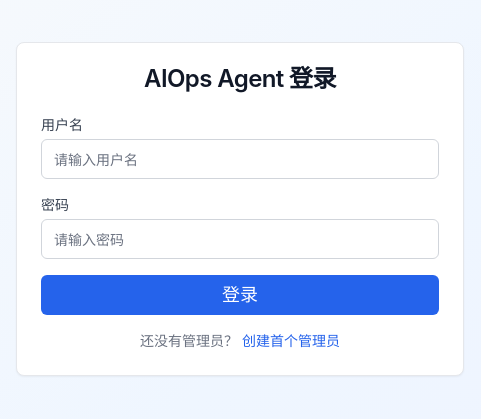
Test case: Login Form Validation Tests › Form Validation › should show error message on failed login
Type "invalid" into the field with placeholder "请输入用户名" at coordinates (240, 159), box [41,139,439,179]
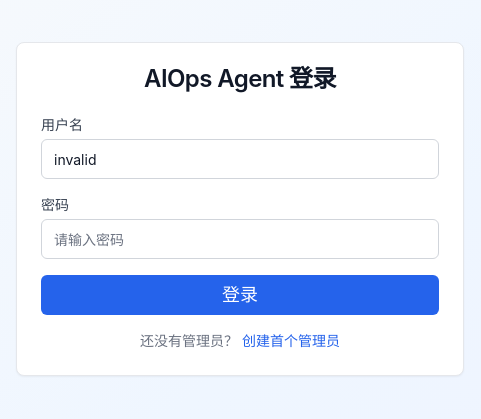
Type "wrong" into the password field with placeholder "请输入密码" at coordinates (240, 239), box [41,219,439,259]
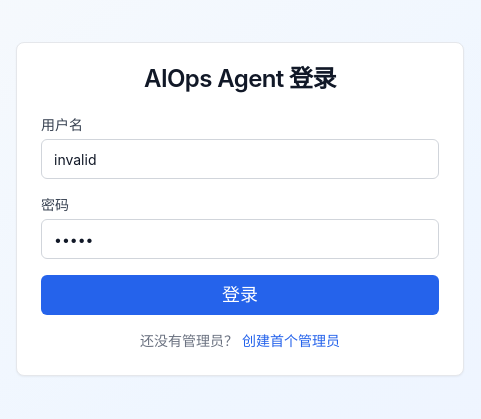
Click the button "登录" at coordinates (240, 295), box [41,275,439,315]
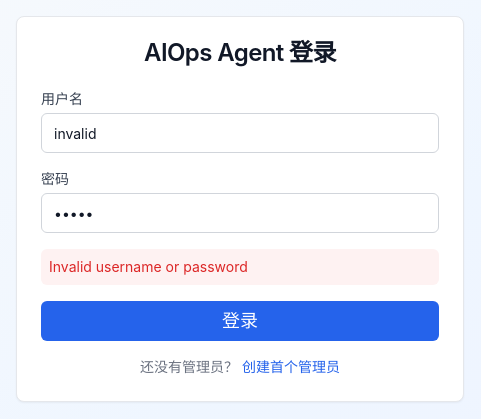
Expected: the message reads "Invalid username or password", [49,258,248,275]
